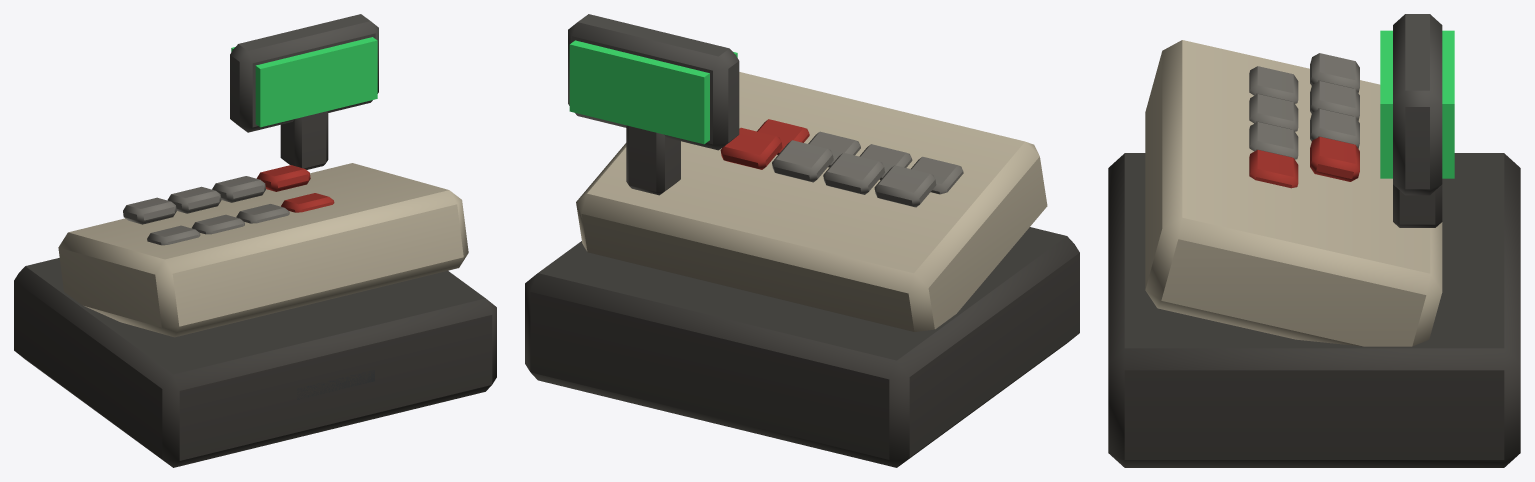
The model's file is 48_caisse_enregistreuse.fbx.
3 views of the same model, side by side, from view 1: azimuth 30°, elevation 25°; view 2: azimuth 150°, elevation 25°; view 3: azimuth 270°, elevation 25° (orthographic). The views are drawn at different scales.
Parts seen in each view (by area): view 1: Caisse, Ecran, Tiroir; view 2: Caisse, Ecran; view 3: Caisse, Ecran.
Boxes of the visible parts, box(x1,y1,x2,y2) form: Caisse: box(14, 111, 496, 467); Ecran: box(230, 14, 378, 132); Tiroir: box(297, 370, 374, 399); Caisse: box(525, 72, 1079, 467); Ecran: box(568, 14, 739, 150); Caisse: box(1108, 40, 1520, 467); Ecran: box(1380, 14, 1454, 195).
Size of the model in its own units: 0.336 by 0.28 by 0.28.
Materials: 1 (1 with a texture image).
